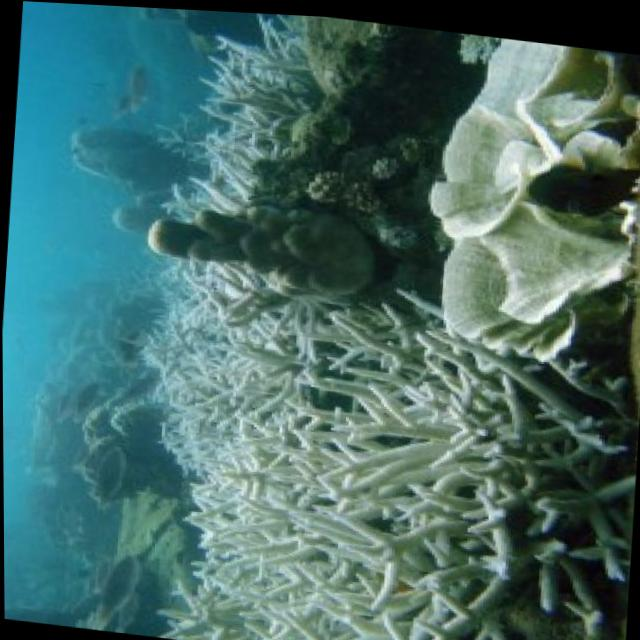Bleached Coral: (72, 3, 640, 640)
